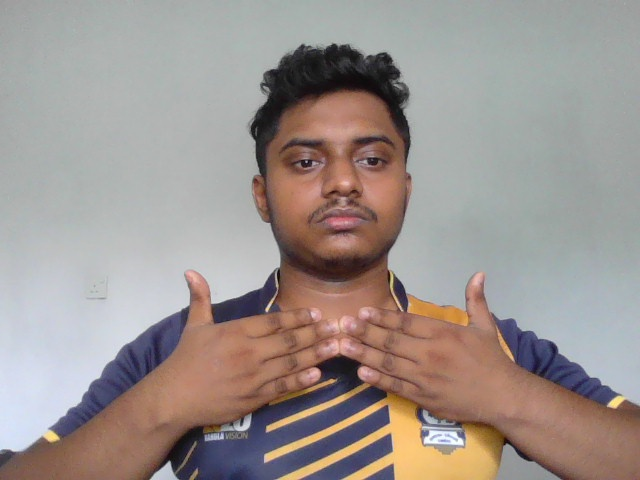Thank You: (169, 269, 507, 433)
